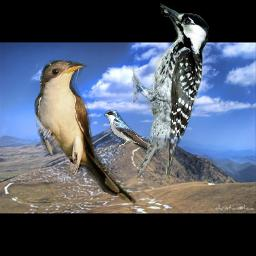Cuckoo: (34, 60, 138, 210)
Swallow: (104, 110, 154, 152)
Woodpecker: (132, 3, 209, 178)
